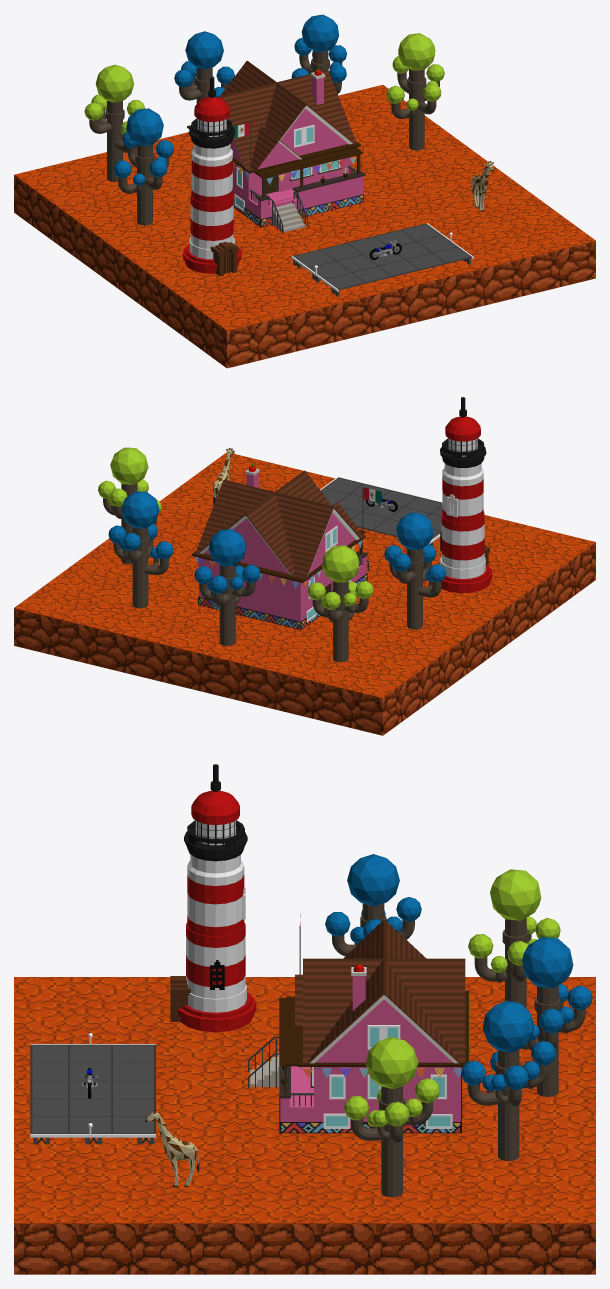
3 views of the same model, one above another, from view 1: azimuth 30°, elevation 25°; view 2: azimuth 150°, elevation 25°; view 3: azimuth 270°, elevation 25° (orthographic). The views are drawn at different scales.
Visible parts, largest first — view 1: Cube.001, Cube.1005, OBJRANDOM_LIGHTHOUSE, ANIMAL_JIRAFA; view 2: Cube.001, Cube.1005, OBJRANDOM_LIGHTHOUSE; view 3: Cube.001, Cube.1005, OBJRANDOM_LIGHTHOUSE, ANIMAL_JIRAFA.
Part boxes in pixels (left/top/right/bottom): Cube.001: left=14, top=14, right=595, bottom=368; Cube.1005: left=187, top=61, right=365, bottom=233; OBJRANDOM_LIGHTHOUSE: left=183, top=77, right=241, bottom=276; ANIMAL_JIRAFA: left=472, top=161, right=493, bottom=211; Cube.001: left=14, top=447, right=595, bottom=735; Cube.1005: left=191, top=461, right=381, bottom=629; OBJRANDOM_LIGHTHOUSE: left=440, top=397, right=492, bottom=593; Cube.001: left=14, top=854, right=595, bottom=1274; Cube.1005: left=248, top=913, right=468, bottom=1133; OBJRANDOM_LIGHTHOUSE: left=170, top=764, right=256, bottom=1032; ANIMAL_JIRAFA: left=145, top=1110, right=199, bottom=1187.
Size of the model in its own units: 4000 by 2353 by 4000.
75 materials, 6 textured.
